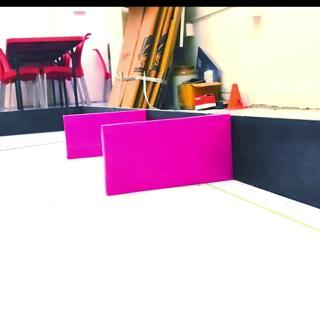xparking: (103, 125, 229, 190), (64, 114, 98, 158)
